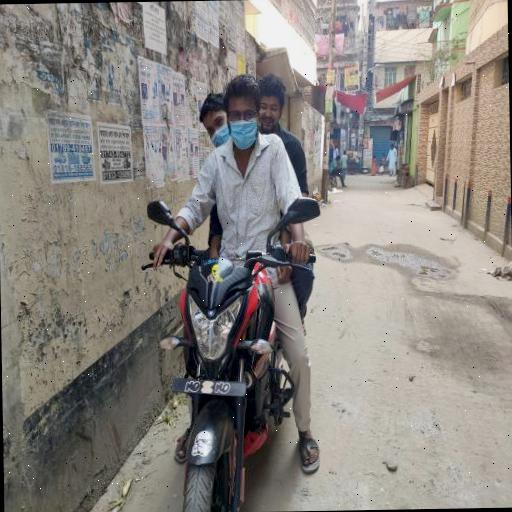no helmet: (214, 79, 274, 196)
triple riding: (147, 82, 342, 512)
